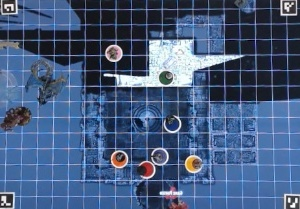blue: (162, 113, 183, 137)
green: (154, 67, 177, 88)
orange: (108, 148, 131, 171)
pink: (103, 41, 124, 65)
red: (136, 157, 157, 180)
violet: (147, 147, 171, 166)
yellow: (180, 153, 203, 174)
